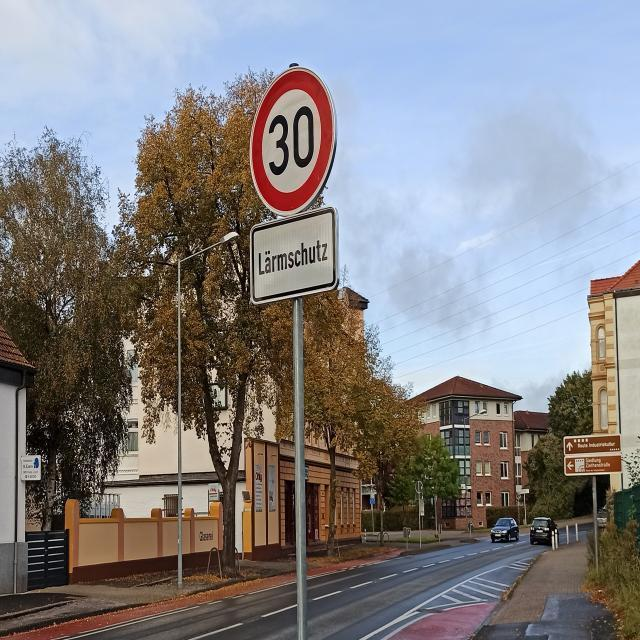Speed Limit -30-: (250, 66, 337, 215)
